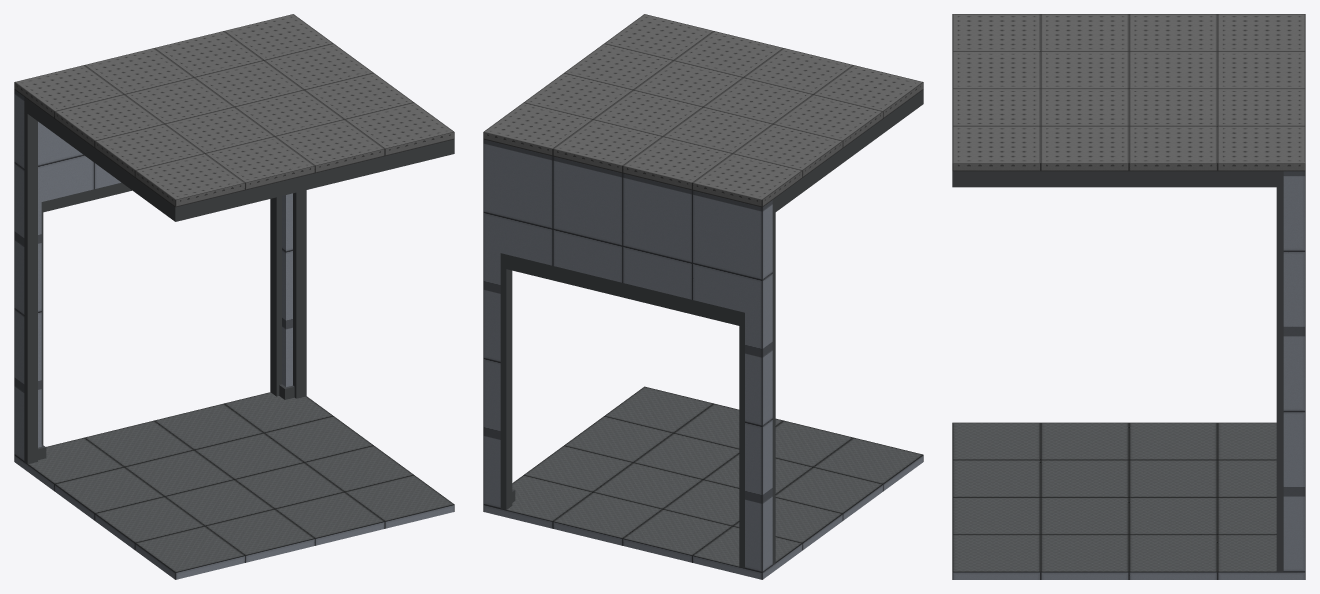
File: Room_SciFi_Opening_NoLight.glb
3 renders of one model, left to right at view 1: azimuth 30°, elevation 25°; view 2: azimuth 150°, elevation 25°; view 3: azimuth 270°, elevation 25°, orthographic. The views are drawn at different scales.
Parts seen in each view (by area): view 1: Room_SciFi_Opening_NoLight, Room_SciFi_Opening_NoLight_Ceiling; view 2: Room_SciFi_Opening_NoLight, Room_SciFi_Opening_NoLight_Ceiling; view 3: Room_SciFi_Opening_NoLight, Room_SciFi_Opening_NoLight_Ceiling.
Part boxes in pixels (x1,y1,x2,y2): Room_SciFi_Opening_NoLight: (14, 90, 454, 579); Room_SciFi_Opening_NoLight_Ceiling: (14, 14, 454, 221); Room_SciFi_Opening_NoLight: (483, 139, 923, 579); Room_SciFi_Opening_NoLight_Ceiling: (483, 14, 923, 326); Room_SciFi_Opening_NoLight: (952, 171, 1305, 579); Room_SciFi_Opening_NoLight_Ceiling: (952, 14, 1305, 187).
Size of the model in its own units: 4 by 5.2 by 4.
Materials: 5 (3 with a texture image).
